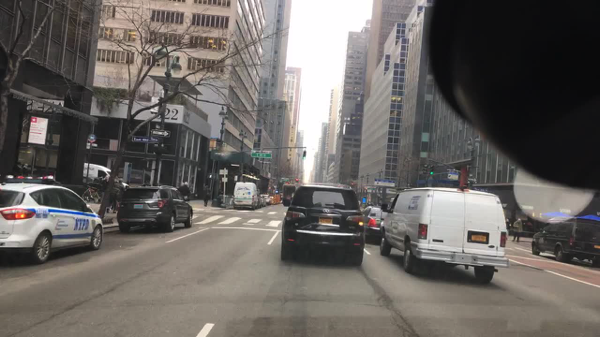bike: (80, 184, 102, 203)
car: (0, 175, 103, 263), (280, 184, 364, 267), (116, 185, 195, 233), (530, 214, 599, 267), (360, 205, 386, 244), (270, 194, 279, 204), (259, 195, 267, 206), (264, 194, 273, 203)
person: (105, 177, 124, 212), (511, 218, 522, 242), (178, 182, 191, 202), (204, 182, 212, 206), (505, 218, 510, 239)
traffic light: (423, 162, 429, 175), (429, 163, 434, 177), (301, 149, 306, 160), (294, 178, 300, 182), (350, 181, 354, 187)
traffic sign: (375, 177, 396, 188), (132, 136, 151, 143), (151, 130, 169, 137), (251, 152, 271, 158), (447, 171, 459, 180), (88, 133, 97, 144), (217, 169, 228, 176), (279, 177, 290, 183), (214, 151, 225, 157), (153, 124, 163, 130), (467, 177, 477, 182), (150, 138, 159, 143), (220, 177, 228, 182)
truck: (378, 188, 509, 283), (84, 162, 131, 190), (232, 182, 260, 209), (281, 184, 296, 206)
